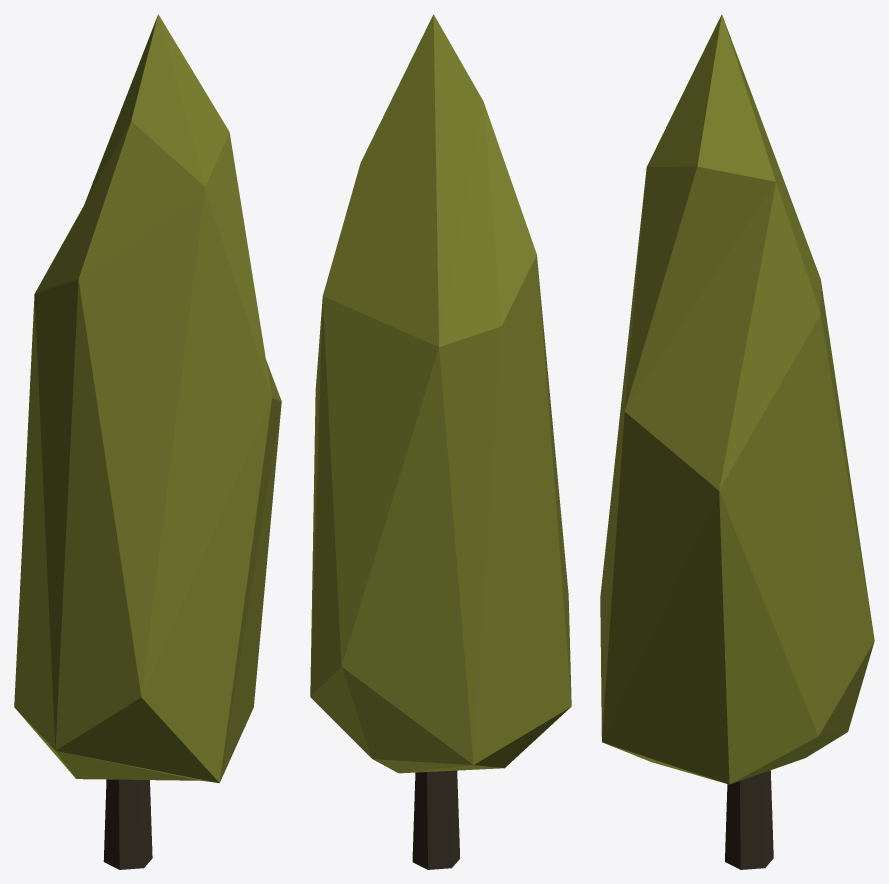
File: roman_tree_cyprus_short.fbx
3 renders of one model, left to right at view 1: azimuth 30°, elevation 25°; view 2: azimuth 150°, elevation 25°; view 3: azimuth 270°, elevation 25°, orthographic. The views are drawn at different scales.
Visible parts, largest first — view 1: Icosphere.003; view 2: Icosphere.003; view 3: Icosphere.003.
Part boxes in pixels (x1=…): Icosphere.003: x1=14, y1=14, x2=281, y2=869; Icosphere.003: x1=310, y1=14, x2=571, y2=869; Icosphere.003: x1=600, y1=14, x2=874, y2=869.
Size of the model in its own units: 0.9215 by 3.07 by 0.8948.
